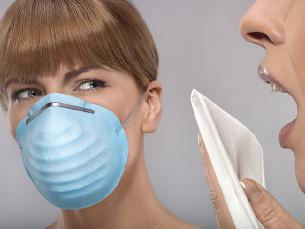NONE: (237, 1, 305, 204)
OK: (5, 60, 155, 210)
